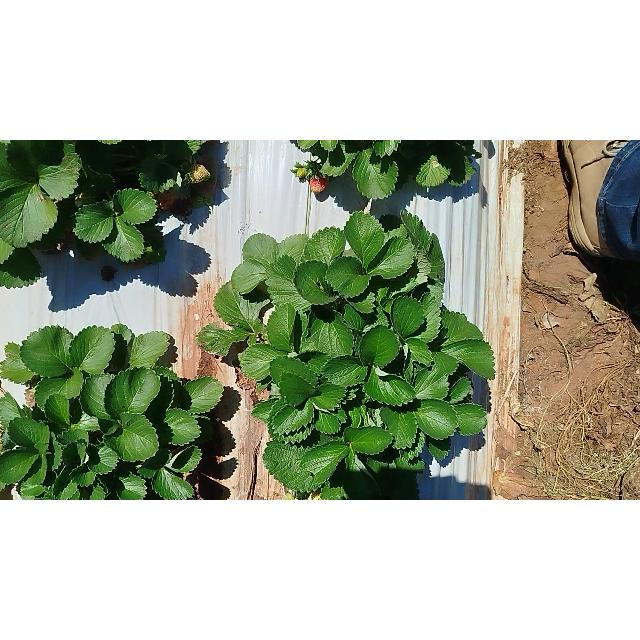no-maduro: (189, 164, 211, 184)
semi-maduro: (307, 174, 329, 194)
